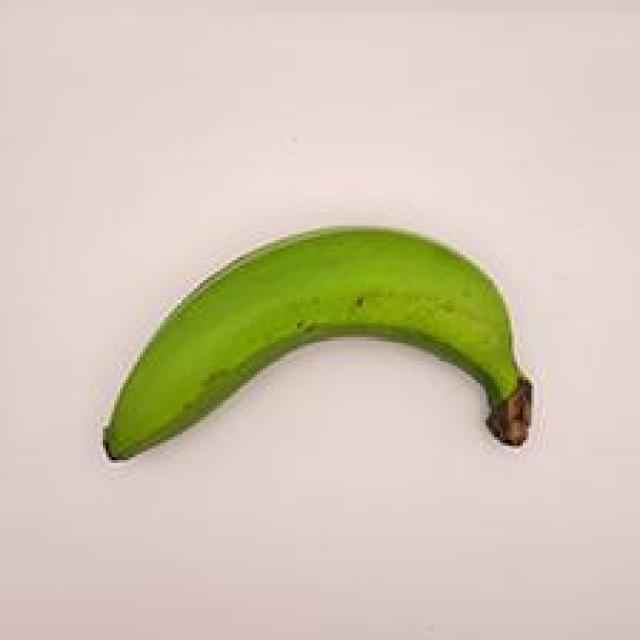Raw: (88, 208, 549, 492)
